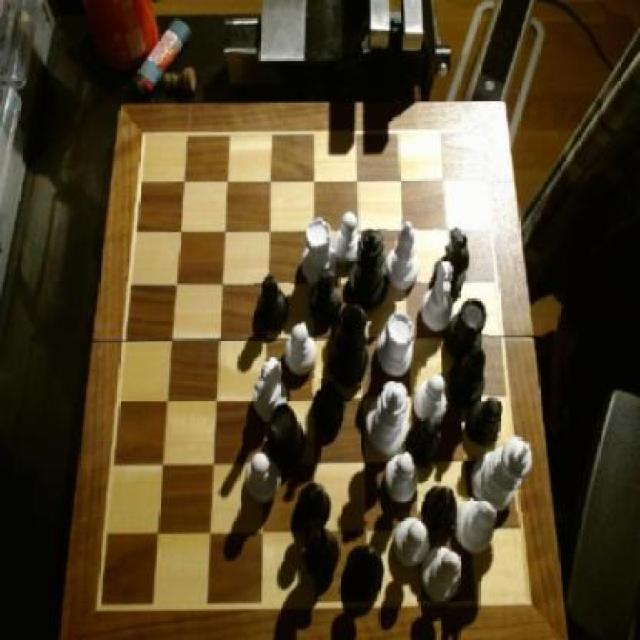bishop: (344, 543, 386, 602), (449, 351, 490, 404)
black-bishop: (326, 303, 372, 386)
black-king: (432, 226, 470, 295), (308, 520, 343, 578)
black-knight: (466, 395, 505, 447), (256, 276, 292, 330), (423, 486, 459, 537), (311, 379, 345, 433), (408, 418, 444, 468), (296, 480, 332, 525), (309, 271, 341, 321)
black-pawn: (348, 228, 388, 307)
black-queen: (444, 300, 488, 362), (269, 408, 308, 466)
black-rook: (423, 546, 465, 609), (385, 220, 419, 290), (456, 497, 496, 553)
white-bishop: (471, 434, 532, 510)
white-king: (421, 263, 454, 336), (252, 357, 288, 419)
white-knight: (394, 515, 429, 568), (246, 454, 281, 504), (414, 377, 449, 425), (388, 454, 419, 504), (334, 211, 361, 267), (286, 324, 317, 372)
white-pawn: (368, 381, 410, 454)
white-queen: (377, 311, 415, 376), (300, 219, 336, 283)
